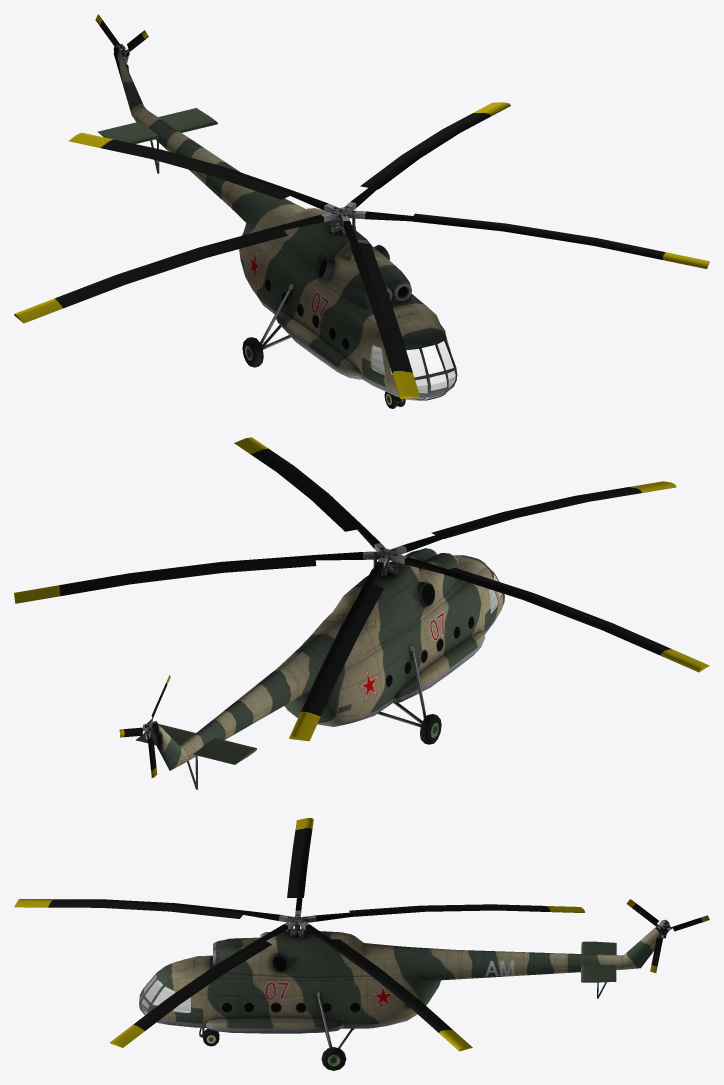
The model's file is helicopter.glb.
3 renders of one model, top to bottom at view 1: azimuth 30°, elevation 25°; view 2: azimuth 150°, elevation 25°; view 3: azimuth 270°, elevation 25°, orthographic. The views are drawn at different scales.
Visible parts, largest first — view 1: Node1, Node3, Node2; view 2: Node1, Node3, Node4; view 3: Node1, Node3, Node4, Node2.
Part boxes in pixels (bbox=[...]): Node1: bbox=[97, 44, 457, 408]; Node3: bbox=[14, 102, 709, 398]; Node2: bbox=[371, 340, 455, 399]; Node1: bbox=[136, 548, 504, 789]; Node3: bbox=[14, 437, 709, 741]; Node4: bbox=[119, 675, 170, 777]; Node1: bbox=[139, 919, 669, 1070]; Node3: bbox=[14, 818, 584, 1050]; Node4: bbox=[626, 899, 709, 972]; Node2: bbox=[140, 974, 190, 1014].
Size of the model in its own units: 78.09 by 23.49 by 99.18.
2 materials, 1 textured.
